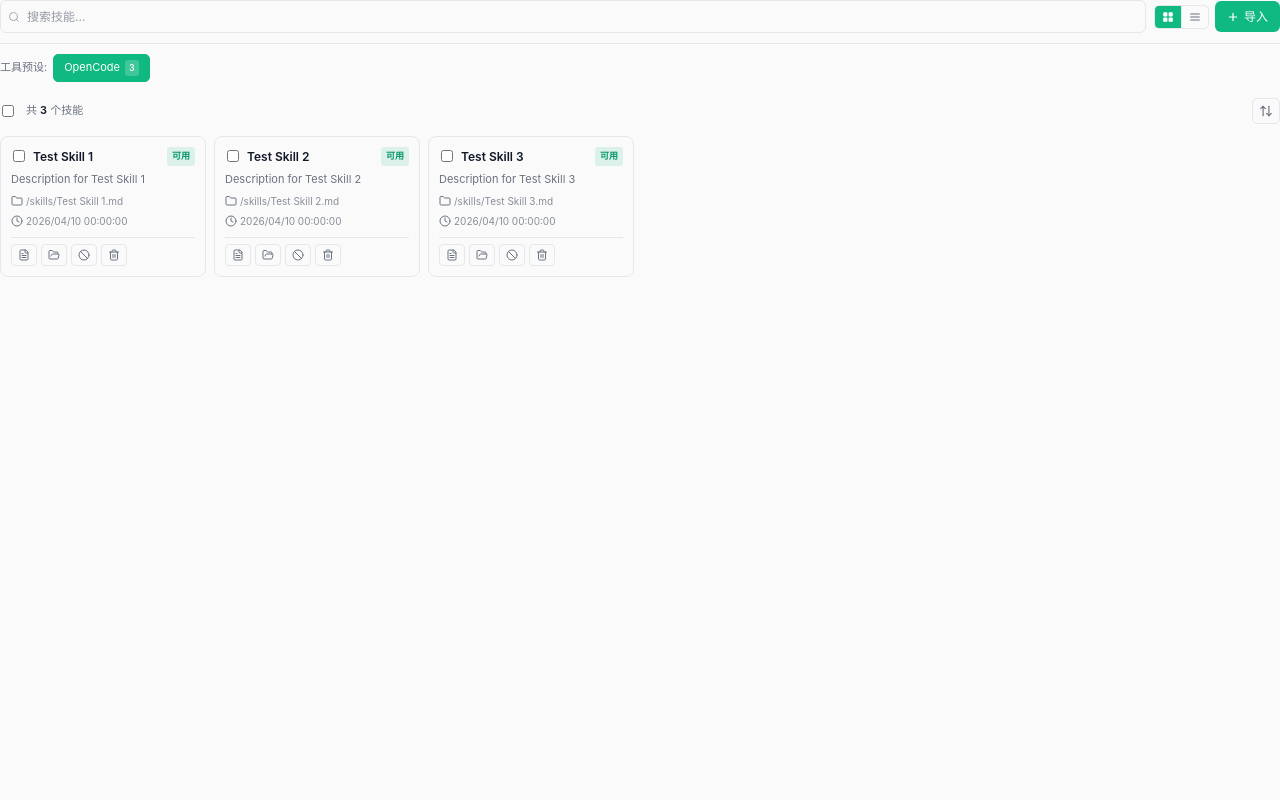
it: ProjectSkillList - Delete Confirmation › Single Delete Confirmation › displays correct skill name in confirmation dialog
The image size is (1280, 800).
Click the button titled "移除" below "/skills/Test Skill 2.md" at (328, 255), box x1=315 y1=244 x2=341 y2=266
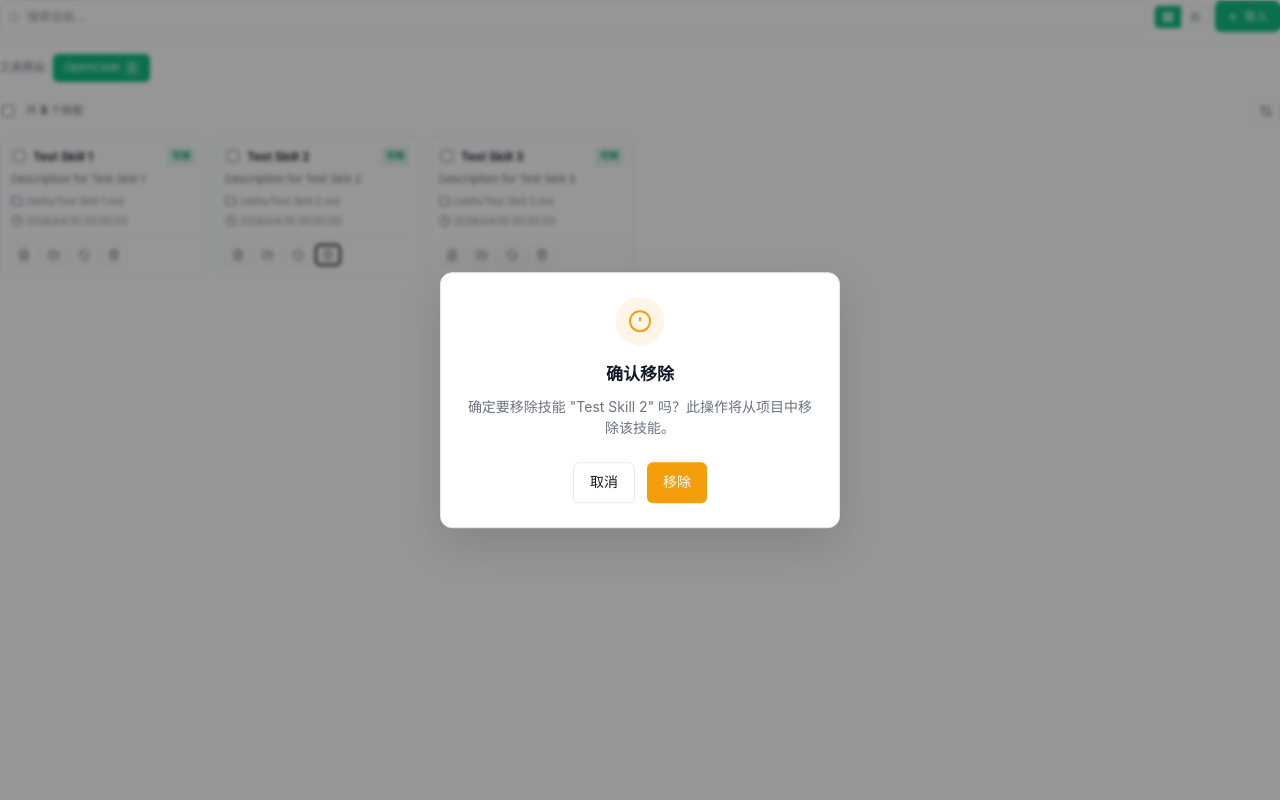
Result: the text "确定要移除技能 \"Test Skill 2\" 吗？此操作将从项目中移除该技能。" is shown at x1=465 y1=396 x2=815 y2=438
